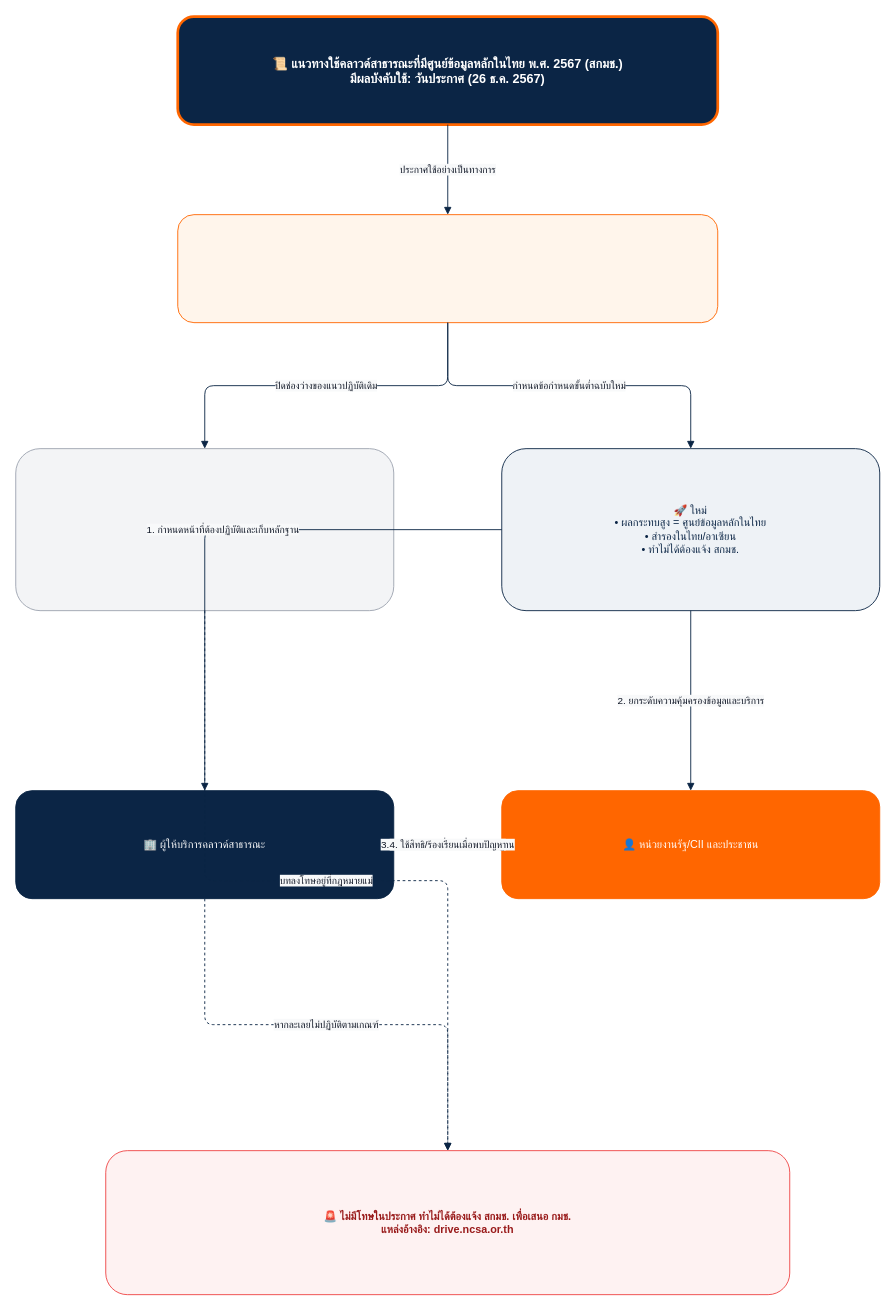
This 896x1310 diagram has some shape labels left out. The shapes that lost their labels are listed below. From the top down, each one's centre as x and y in pixels, then its label:
At [447,268]: "ระบบผลกระทบสูงต้องใช้คลาวด์ที่มีศูนย์ข้อมูลหลักในไทย (Data Localization)".
At [204,529]: "🏛️ เดิม • ไม่ผูกที่ตั้งศูนย์ข้อมูล • เลือกคลาวด์ได้อิสระ".
